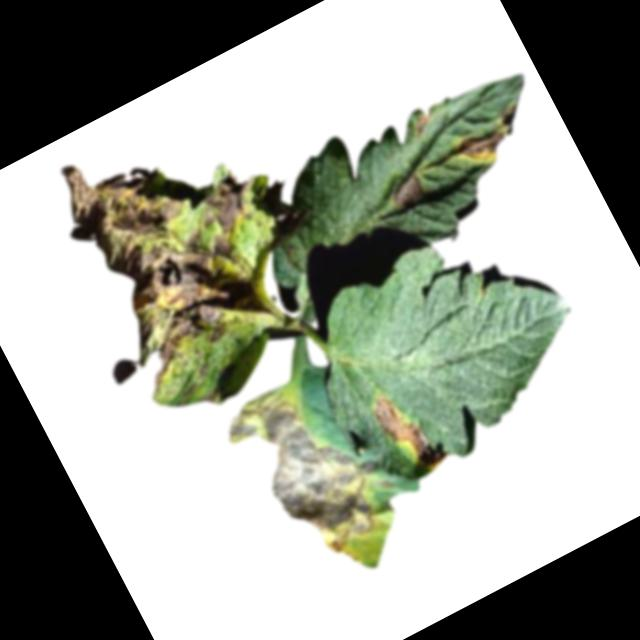Early_blight: (42, 94, 302, 378), (217, 359, 410, 574), (364, 381, 449, 483), (455, 118, 518, 173), (383, 171, 429, 214), (405, 104, 439, 137)
